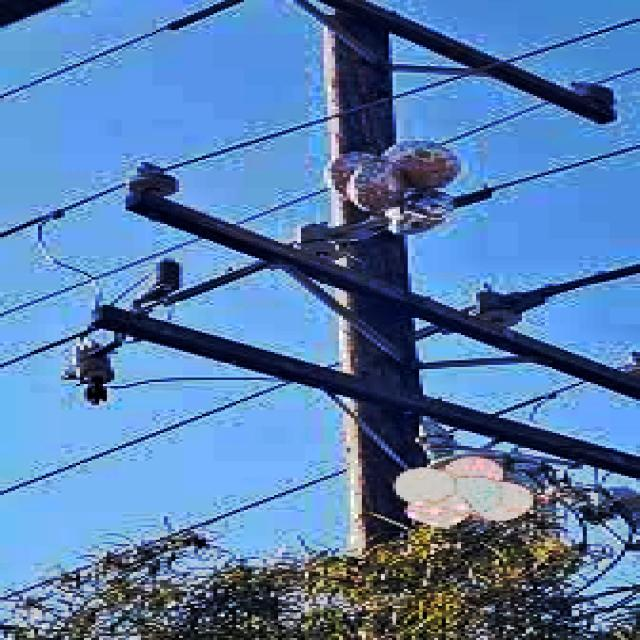obstruction: (293, 141, 457, 267), (392, 416, 556, 525), (461, 290, 537, 326), (130, 164, 175, 198)
poles: (95, 0, 636, 548)
wires: (0, 382, 286, 495), (0, 181, 194, 316), (0, 0, 244, 98), (164, 115, 331, 169), (190, 469, 343, 527), (488, 143, 636, 192), (499, 17, 636, 60), (442, 100, 545, 143), (183, 260, 263, 297), (0, 331, 80, 367), (495, 380, 579, 414), (392, 62, 469, 98), (240, 190, 324, 222), (110, 375, 267, 388), (560, 275, 606, 292), (598, 66, 636, 81), (415, 324, 438, 337)
